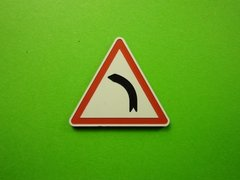Bend_to_left: (68, 37, 171, 129)
